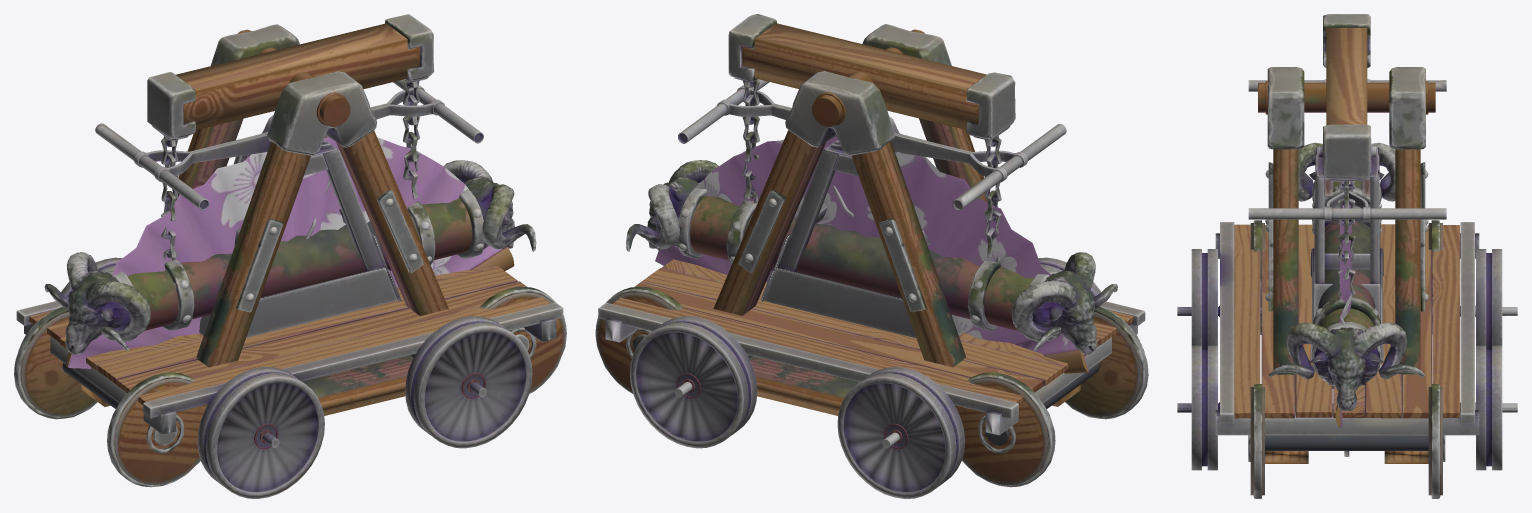
The model's file is Balls&Paddles.glb.
3 renders of one model, left to right at view 1: azimuth 30°, elevation 25°; view 2: azimuth 150°, elevation 25°; view 3: azimuth 270°, elevation 25°, orthographic. The views are drawn at different scales.
Visible parts, largest first — view 1: Handcar, Belier, Belier_Belier, Eventail, Belier_Tronc_Top, Handcar_Roue02, Handcar_Roue, Belier_Roue02, Handcar_Baton, Belier_Roue, Belier_Chaine, Belier_Chaine01; view 2: Handcar, Belier, Belier_Belier, Eventail, Belier_Tronc_Top, Handcar_Roue02, Handcar_Roue, Belier_Roue02, Handcar_Baton, Belier_Roue, Belier_Chaine01, Belier_Chaine; view 3: Handcar, Belier, Belier_Belier, Belier_Tronc_Top, Handcar_Roue, Handcar_Roue02, Belier_Roue, Handcar_Baton, Belier_Roue02, Belier_Chaine, Eventail.
Part boxes in pixels (bbox=[...]): Handcar: bbox=[16, 115, 563, 449]; Belier: bbox=[63, 24, 536, 453]; Belier_Belier: bbox=[44, 160, 536, 354]; Eventail: bbox=[66, 137, 514, 368]; Belier_Tronc_Top: bbox=[147, 14, 433, 146]; Handcar_Roue02: bbox=[61, 257, 324, 498]; Handcar_Roue: bbox=[405, 316, 532, 448]; Belier_Roue02: bbox=[14, 307, 208, 487]; Handcar_Baton: bbox=[95, 79, 483, 210]; Belier_Roue: bbox=[480, 287, 566, 393]; Belier_Chaine: bbox=[402, 80, 419, 199]; Belier_Chaine01: bbox=[161, 137, 178, 258]; Handcar: bbox=[598, 116, 1145, 449]; Belier: bbox=[625, 24, 1099, 453]; Belier_Belier: bbox=[626, 160, 1117, 354]; Eventail: bbox=[655, 137, 1088, 373]; Belier_Tronc_Top: bbox=[728, 14, 1015, 146]; Handcar_Roue02: bbox=[837, 257, 1106, 498]; Handcar_Roue: bbox=[630, 316, 757, 448]; Belier_Roue02: bbox=[955, 307, 1148, 487]; Handcar_Baton: bbox=[678, 79, 1066, 210]; Belier_Roue: bbox=[595, 286, 682, 393]; Belier_Chaine01: bbox=[984, 137, 1001, 258]; Belier_Chaine: bbox=[742, 79, 759, 198]; Handcar: bbox=[1177, 138, 1517, 435]; Belier: bbox=[1248, 67, 1445, 463]; Belier_Belier: bbox=[1268, 142, 1424, 410]; Belier_Tronc_Top: bbox=[1323, 14, 1370, 190]; Handcar_Roue: bbox=[1191, 345, 1502, 470]; Handcar_Roue02: bbox=[1191, 249, 1502, 349]; Belier_Roue: bbox=[1250, 384, 1442, 498]; Handcar_Baton: bbox=[1248, 79, 1446, 220]; Belier_Roue02: bbox=[1250, 220, 1442, 334]; Belier_Chaine: bbox=[1338, 181, 1355, 295]; Eventail: bbox=[1335, 181, 1352, 427].
Size of the model in its own units: 22.46 by 19.07 by 15.21.
1 material, 1 textured.
